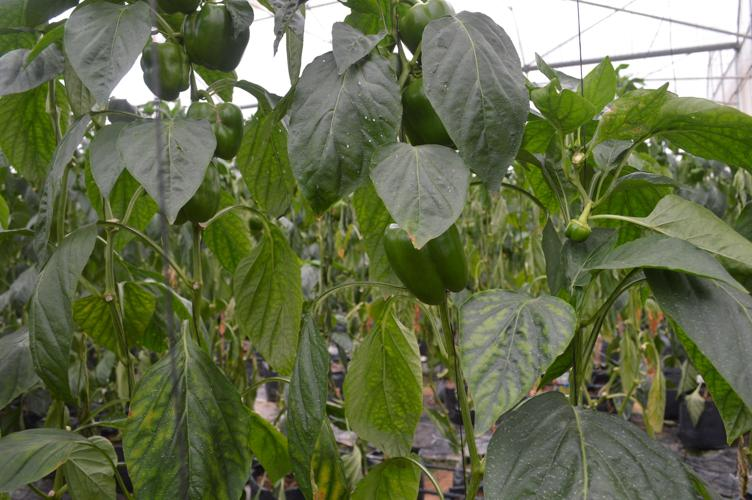BellPepper: (382, 222, 463, 301), (175, 5, 245, 69), (399, 78, 451, 147), (181, 101, 242, 158), (177, 163, 220, 222), (390, 3, 453, 43), (140, 45, 189, 96)
